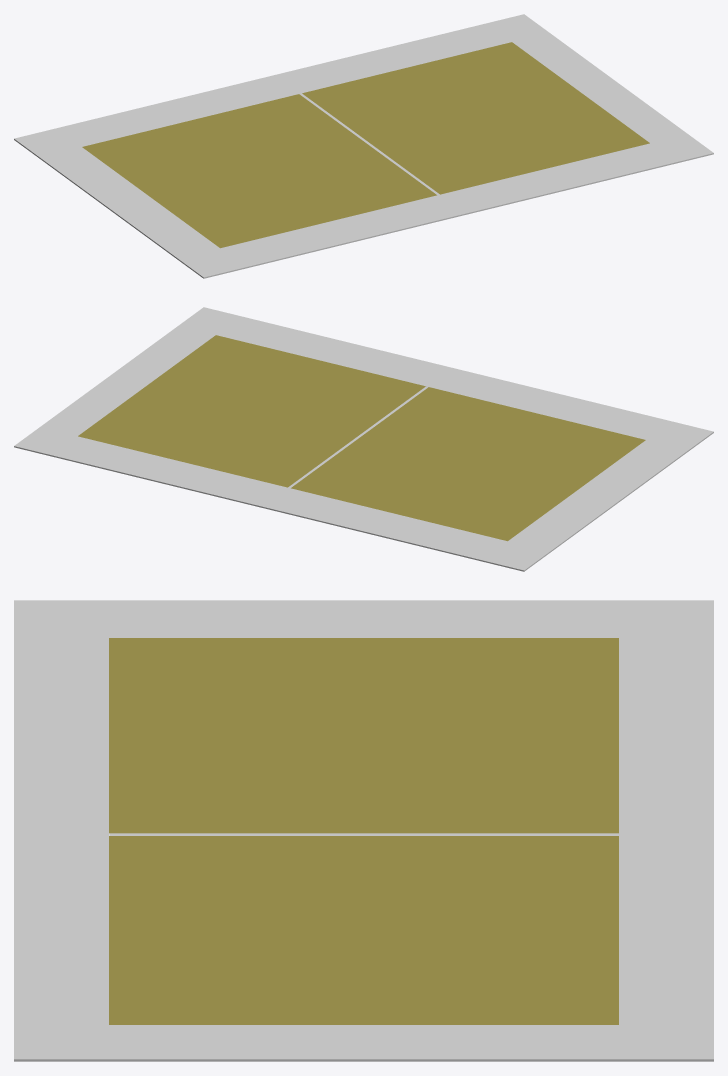
File: Lots3.fbx
The picture shows the model from 3 angles, top to bottom: view 1: azimuth 30°, elevation 25°; view 2: azimuth 150°, elevation 25°; view 3: azimuth 270°, elevation 25°; orthographic projection. The views are drawn at different scales.
Parts seen in each view (by area): view 1: Base, Plane.002, Plane.004; view 2: Base, Plane.002, Plane.004; view 3: Base, Plane.002, Plane.004.
Part boxes in pixels (x1,y1,x2,y2): Base: [14, 14, 713, 278]; Plane.002: [82, 94, 436, 248]; Plane.004: [302, 42, 649, 194]; Base: [14, 307, 713, 571]; Plane.002: [291, 387, 645, 541]; Plane.004: [78, 335, 425, 487]; Base: [14, 600, 713, 1061]; Plane.002: [109, 638, 618, 833]; Plane.004: [109, 836, 618, 1024].
Bounding box in the file's own units: 2175 × 5.89 × 1401.
